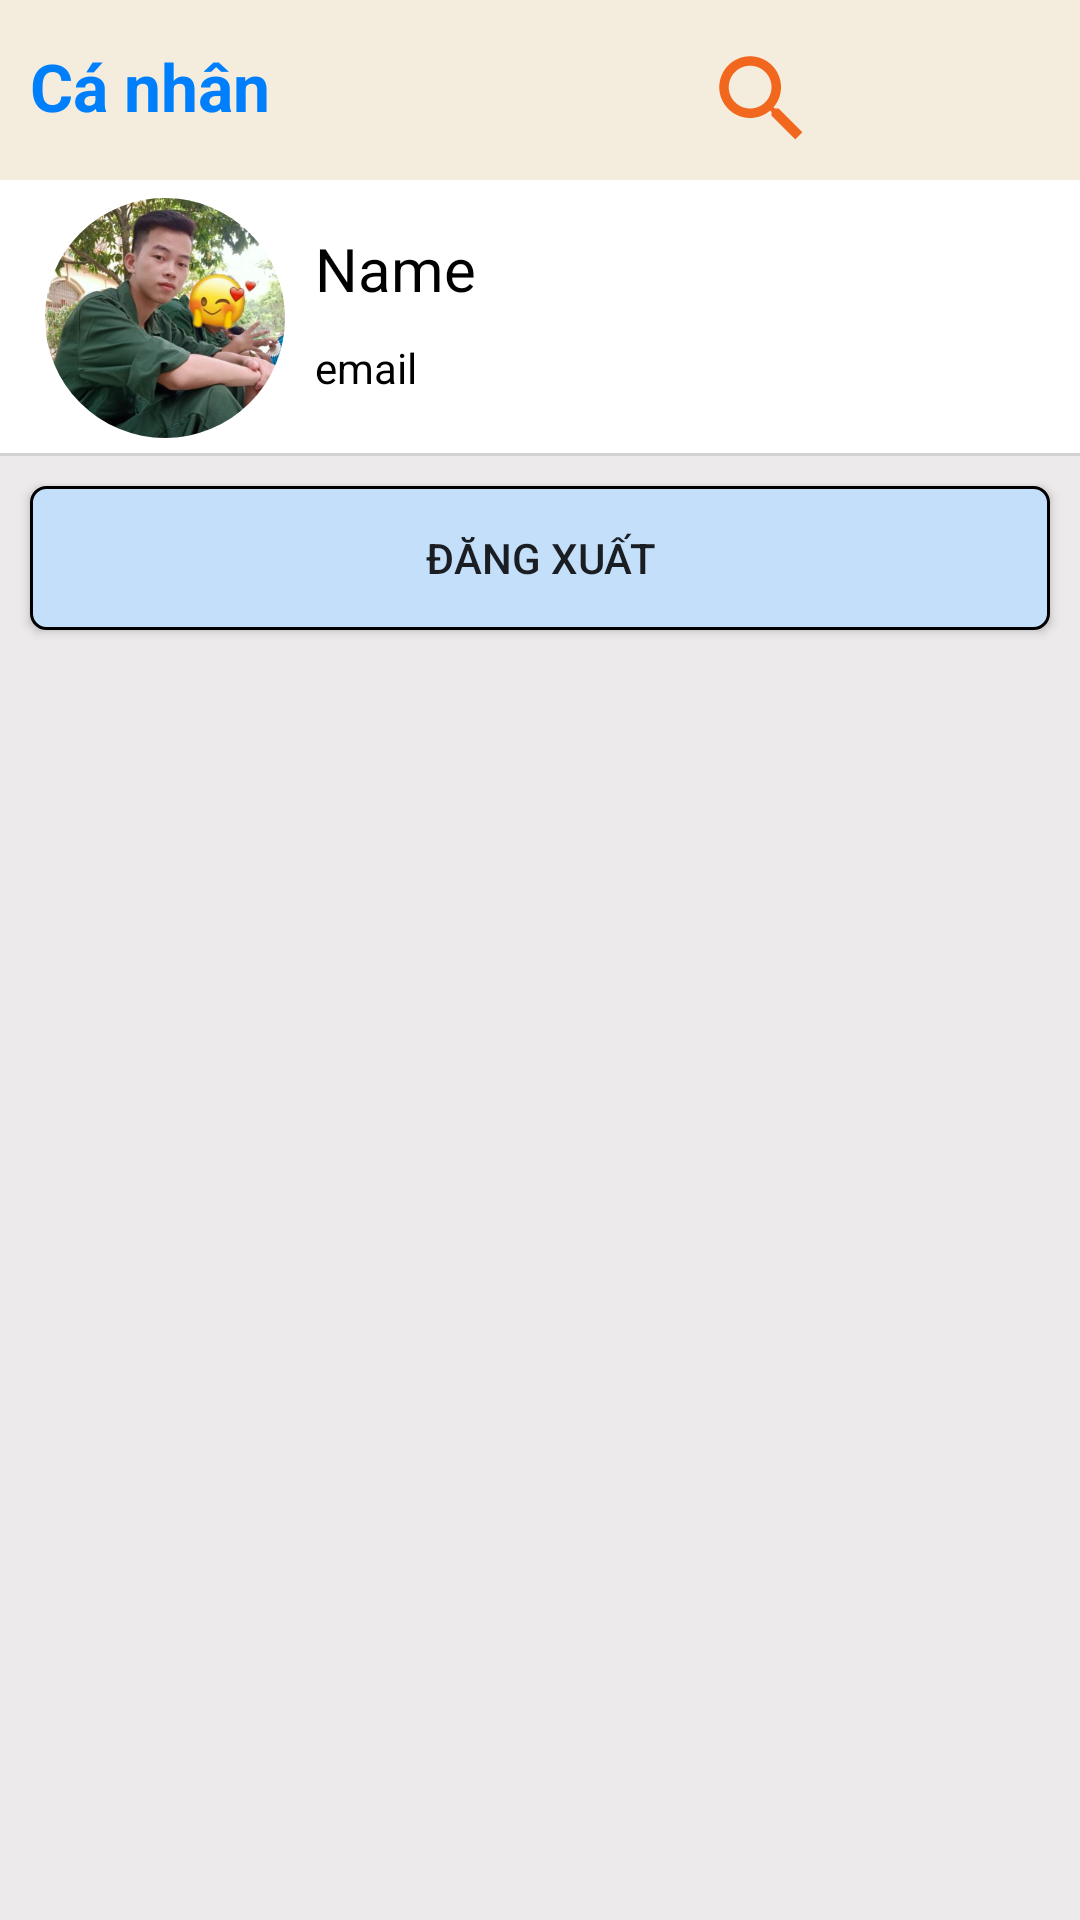

Named icons in this screenshot (1080 × 1920) and their bounding boxes, (x1, y1, x2, y2):
search: (719, 56, 802, 139)
